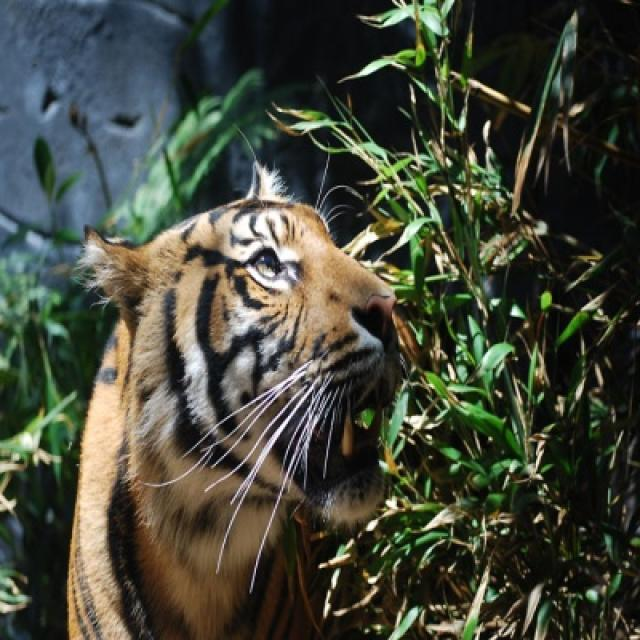Tiger: (66, 157, 408, 634)
